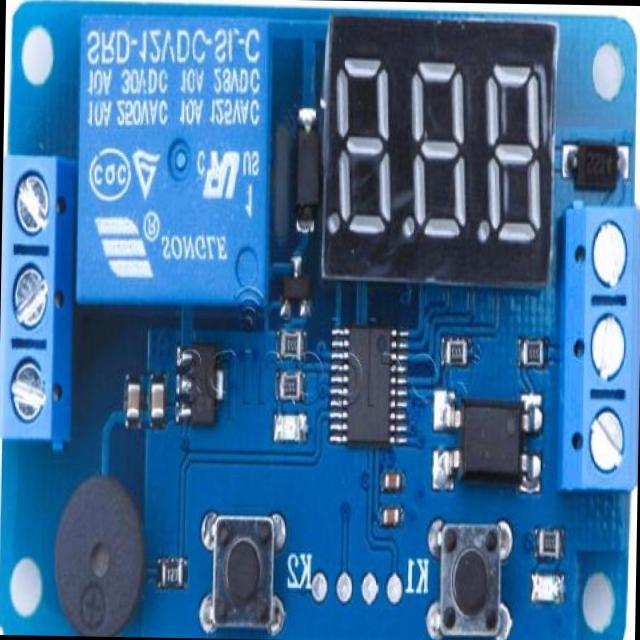IC: (434, 396, 538, 492), (340, 325, 400, 446), (177, 344, 220, 428)
LED: (530, 571, 562, 604), (273, 411, 303, 442)
capacitor: (126, 381, 144, 428), (151, 380, 166, 428)
connector: (0, 152, 80, 445), (557, 204, 639, 486)
diode: (293, 116, 319, 227), (568, 142, 626, 188)
resistor: (158, 558, 186, 594), (535, 530, 560, 564), (518, 336, 545, 364), (283, 332, 303, 359), (446, 340, 468, 364), (280, 374, 300, 400)
transistor: (278, 260, 311, 320)
